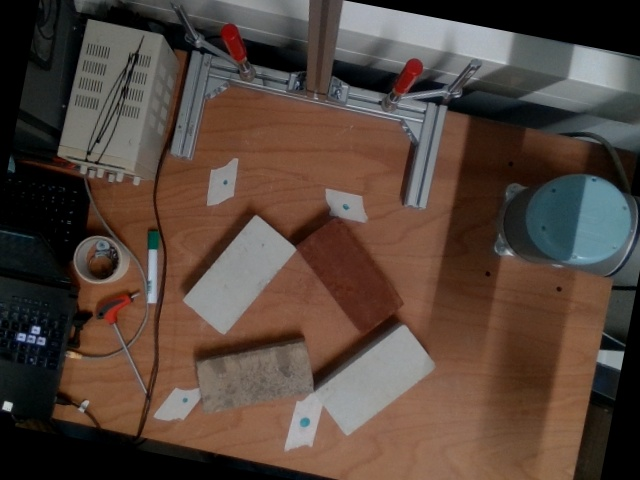brick: (183, 214, 297, 336), (315, 324, 435, 435), (299, 217, 401, 333), (193, 344, 314, 417)
